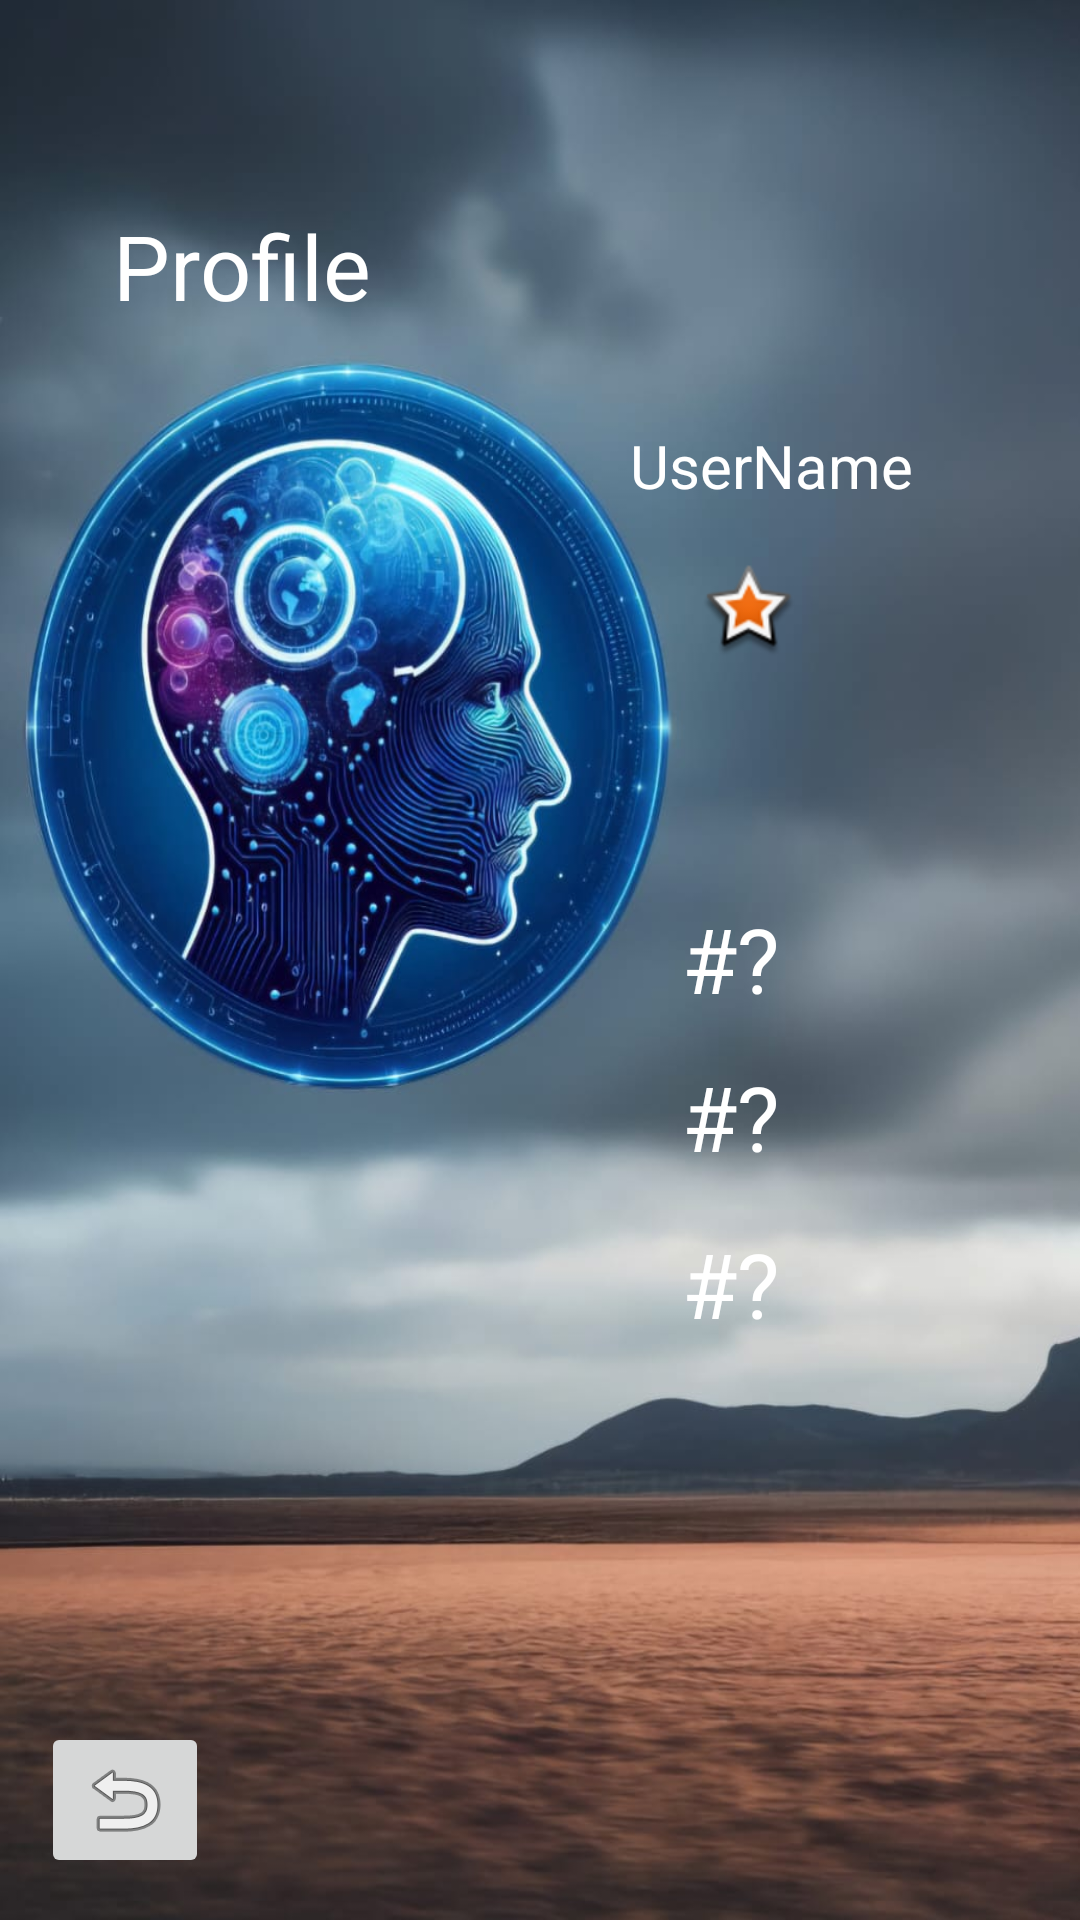

Icon click points for this 1080 x 1920 phone screenshot, format (x=x, y=y):
revert: (x=125, y=1791)
star on: (x=749, y=610)
